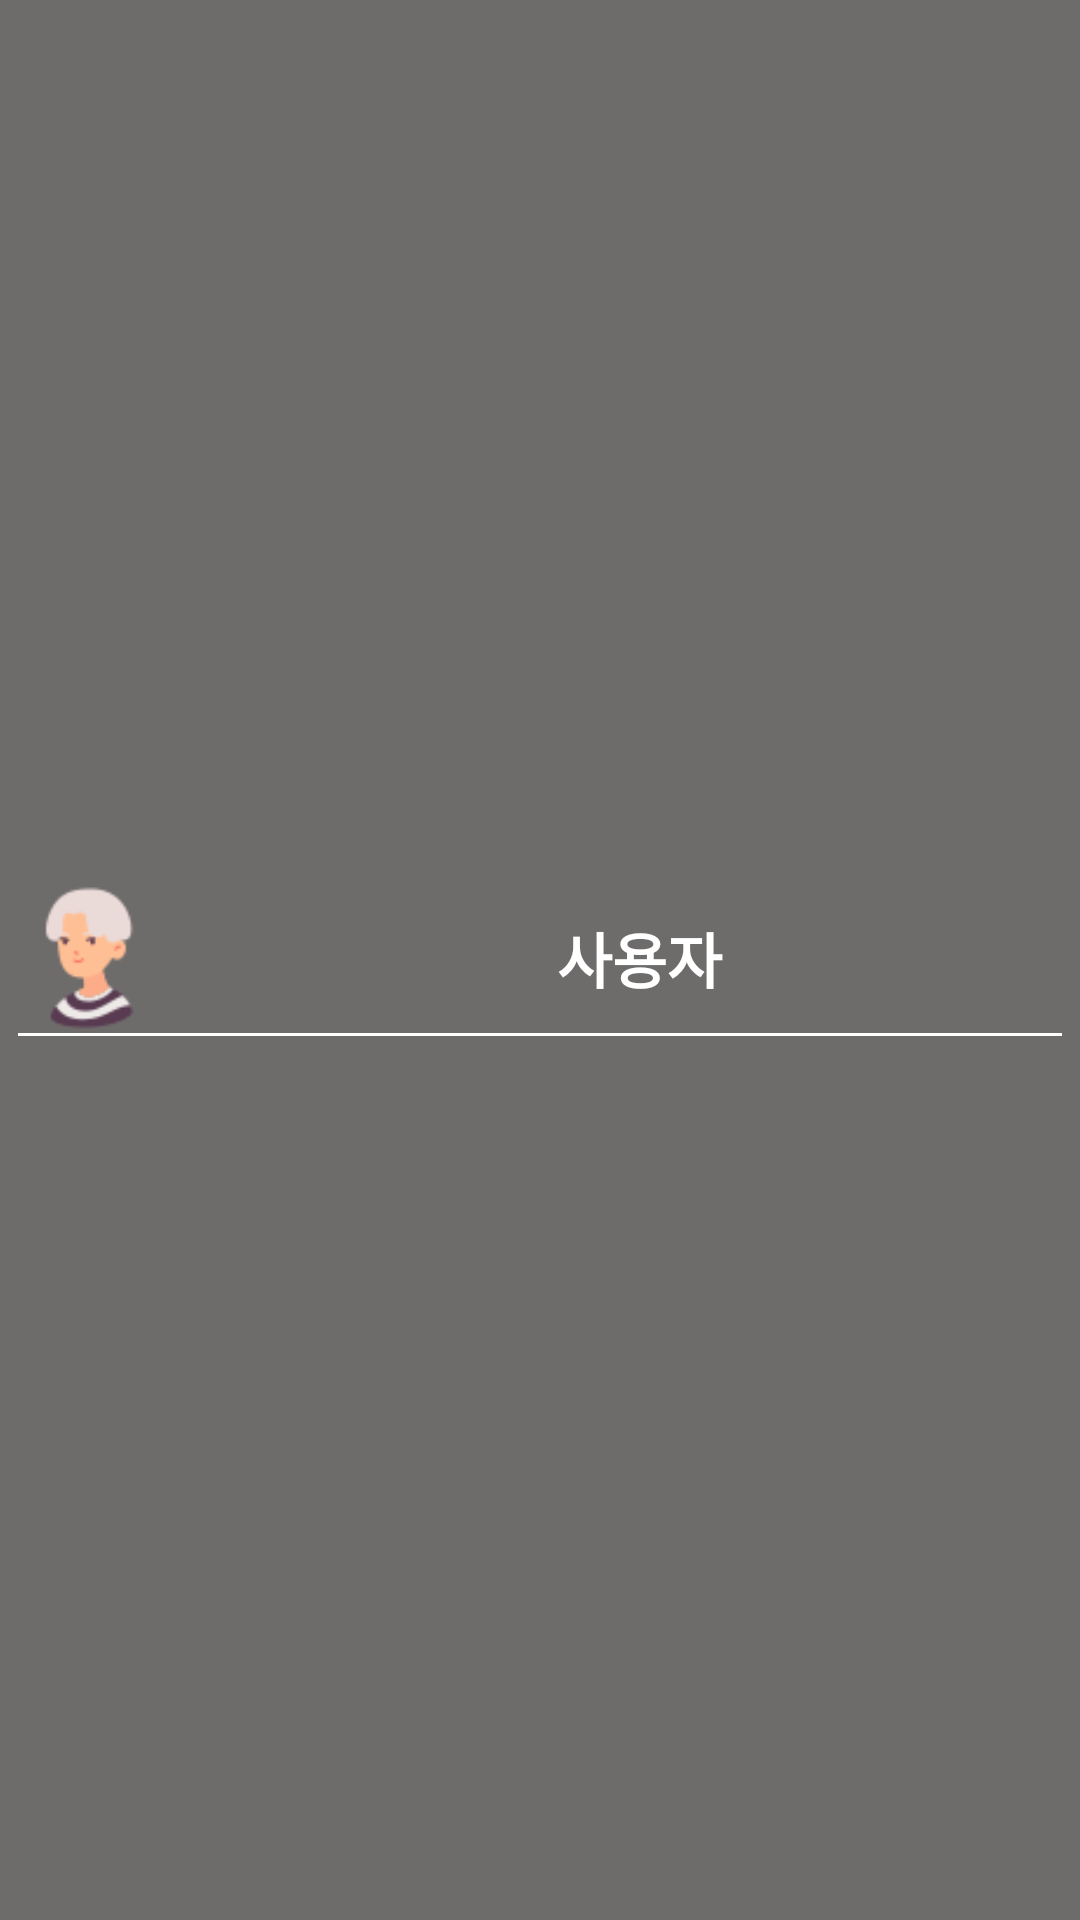

Named icons in this screenshot (1080px×1920px) and their centers, (x,y):
boy: (89,957)
